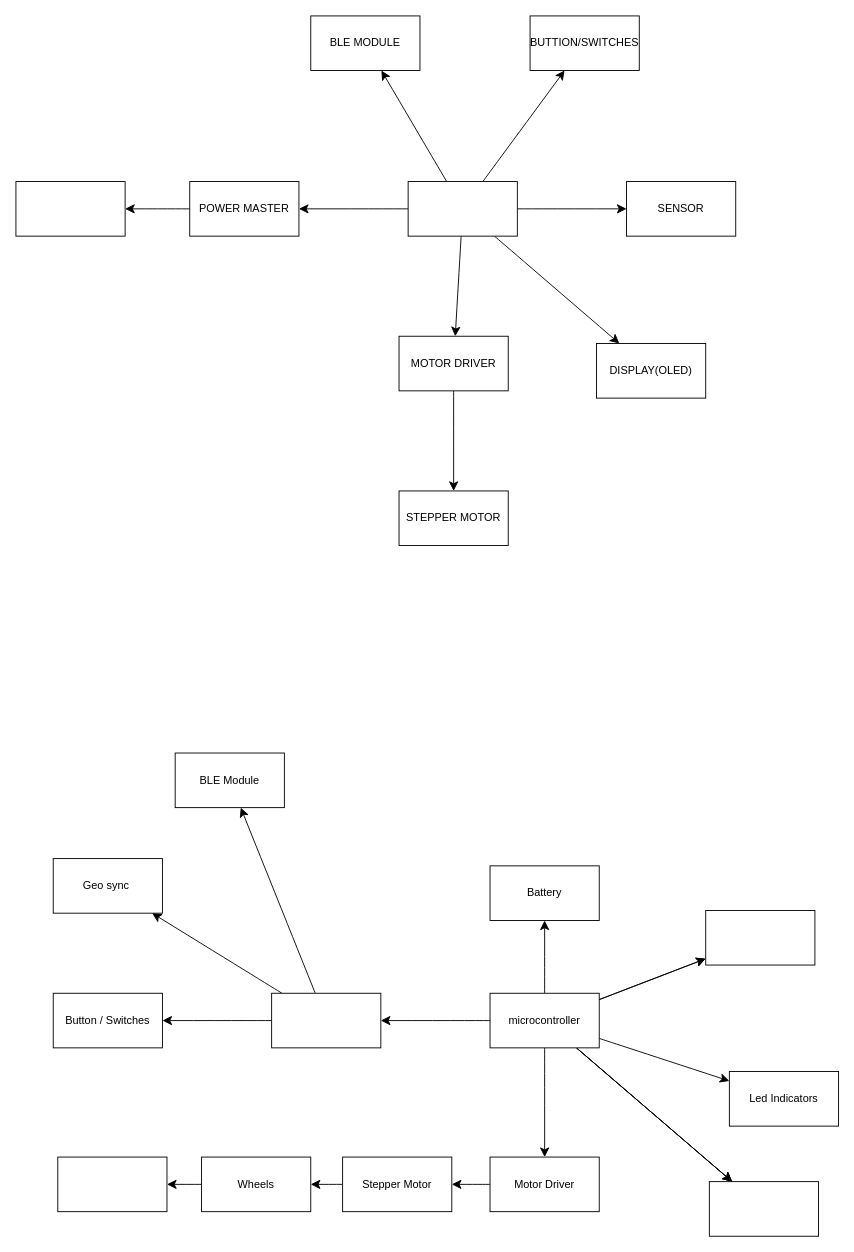
The diagram is 854 pixels wide and 1252 high, and some of its shapes have lost their labels. The centre of each missing label's shape, as x and y in pixels:
"chassis / Encloser" goes at (x=112, y=1184).
"Obstacle Sensor" goes at (x=760, y=937).
"Position Sensor" goes at (x=763, y=1208).
"SLAVE CONTROLLER" goes at (x=70, y=208).
"SUPPLY CONTROLLER" goes at (x=462, y=208).
"Voltage regulator" goes at (x=326, y=1020).
